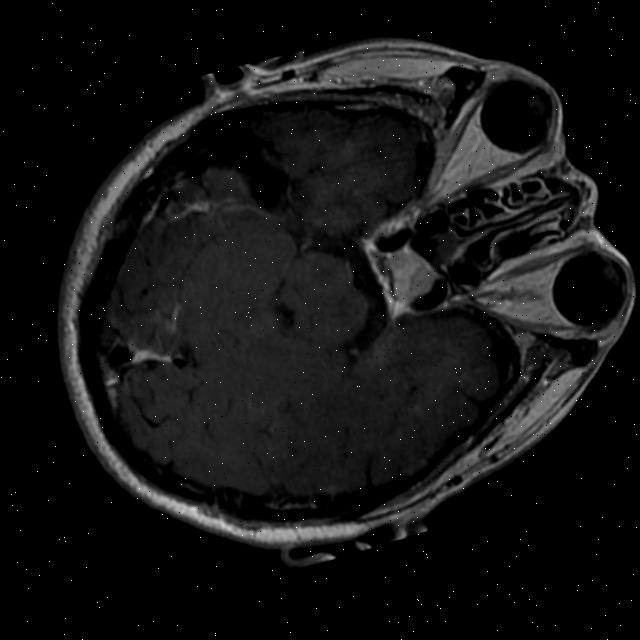Pituitary: (381, 240, 441, 304)
